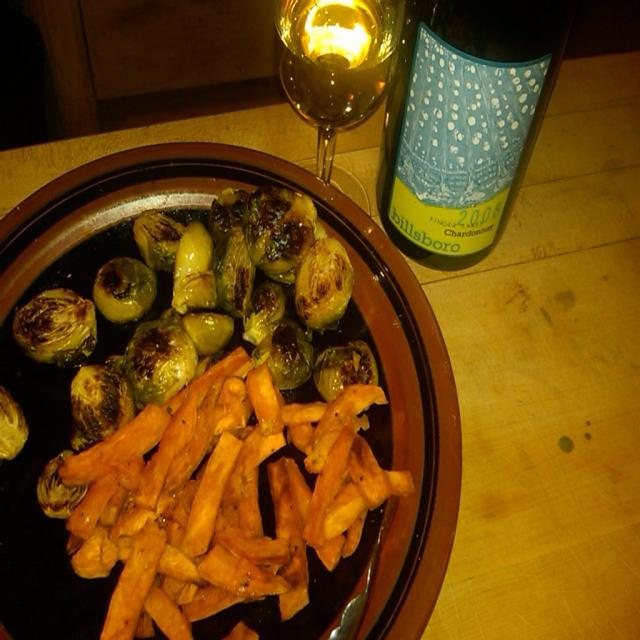French fries: (68, 286, 388, 605)
